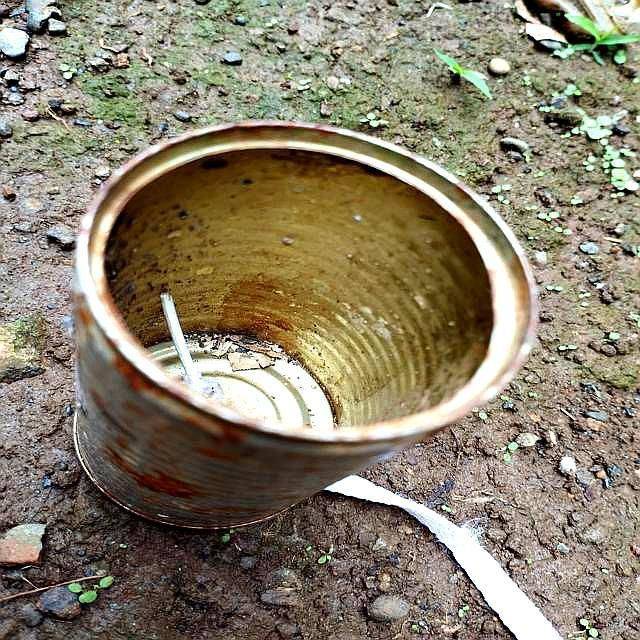Non-biodegradable: (69, 118, 541, 533)
